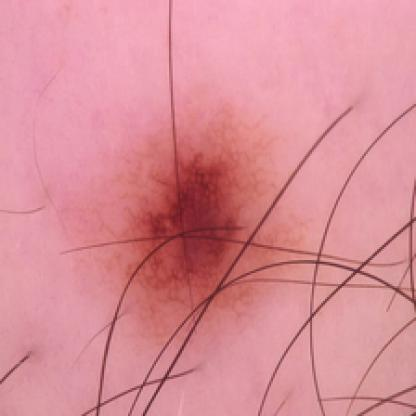benign: (126, 119, 262, 295)
